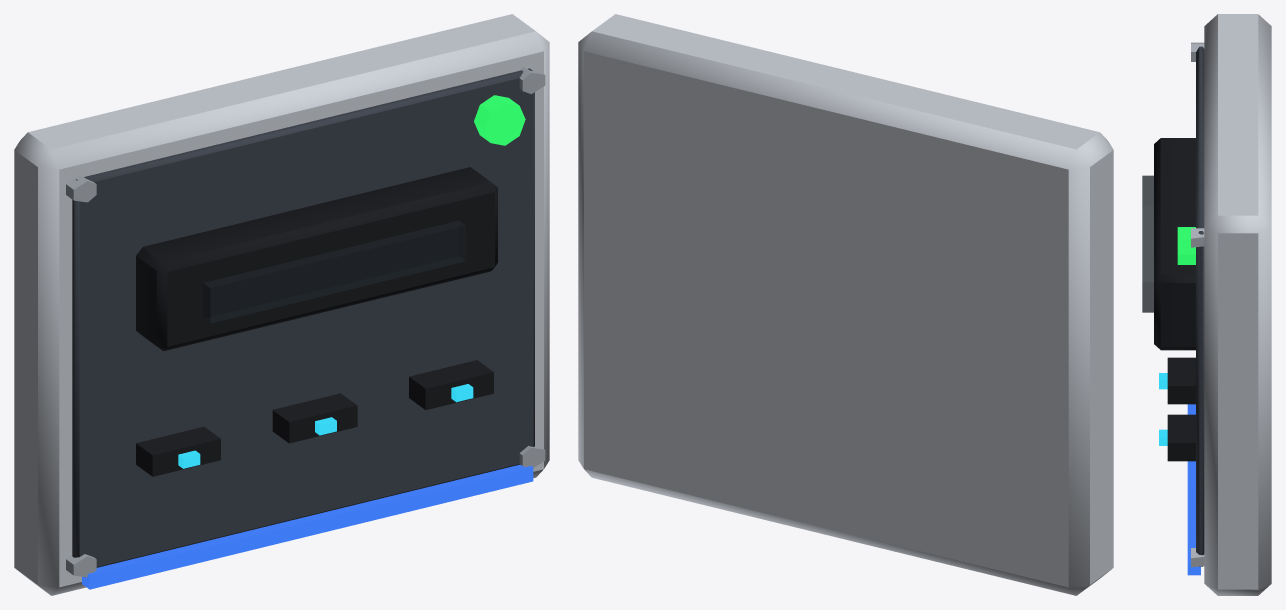
File: controlpanel_data_port.glb
The picture shows the model from 3 angles, left to right: view 1: azimuth 30°, elevation 25°; view 2: azimuth 150°, elevation 25°; view 3: azimuth 270°, elevation 25°; orthographic projection. The views are drawn at different scales.
Parts seen in each view (by area): view 1: controlpanel_data_port; view 2: controlpanel_data_port; view 3: controlpanel_data_port.
Part boxes in pixels (x1,y1,x2,y2): controlpanel_data_port: (14, 14, 549, 595); controlpanel_data_port: (578, 14, 1113, 595); controlpanel_data_port: (1142, 14, 1271, 595).
Bounding box in the file's own units: 0.3 × 0.25 × 0.077.
